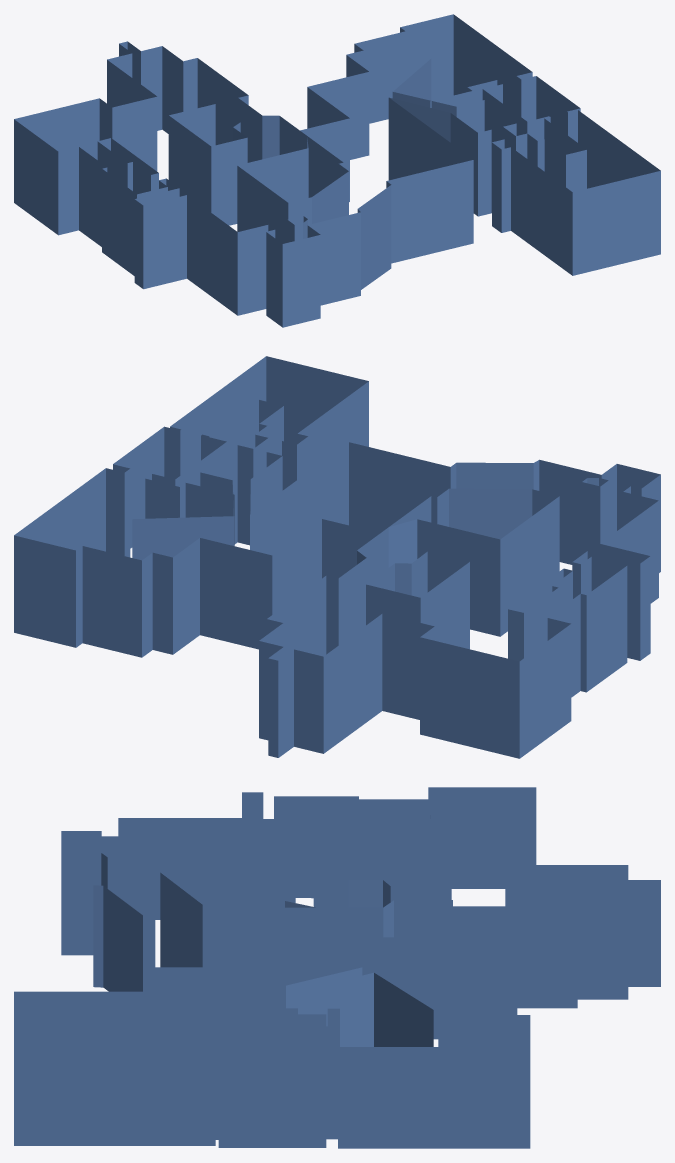
Rendered from invisiwalls.fbx.
3 views of the same model, one above another, from view 1: azimuth 30°, elevation 25°; view 2: azimuth 150°, elevation 25°; view 3: azimuth 270°, elevation 25° (orthographic). The views are drawn at different scales.
Visible parts, largest first — view 1: wallers; view 2: wallers; view 3: wallers.
Boxes of the visible parts, bbox=[...] form: wallers: bbox=[14, 14, 660, 327]; wallers: bbox=[14, 356, 660, 758]; wallers: bbox=[14, 787, 660, 1148].
Bounding box in the file's own units: 7.13 × 1.3 × 7.5.
